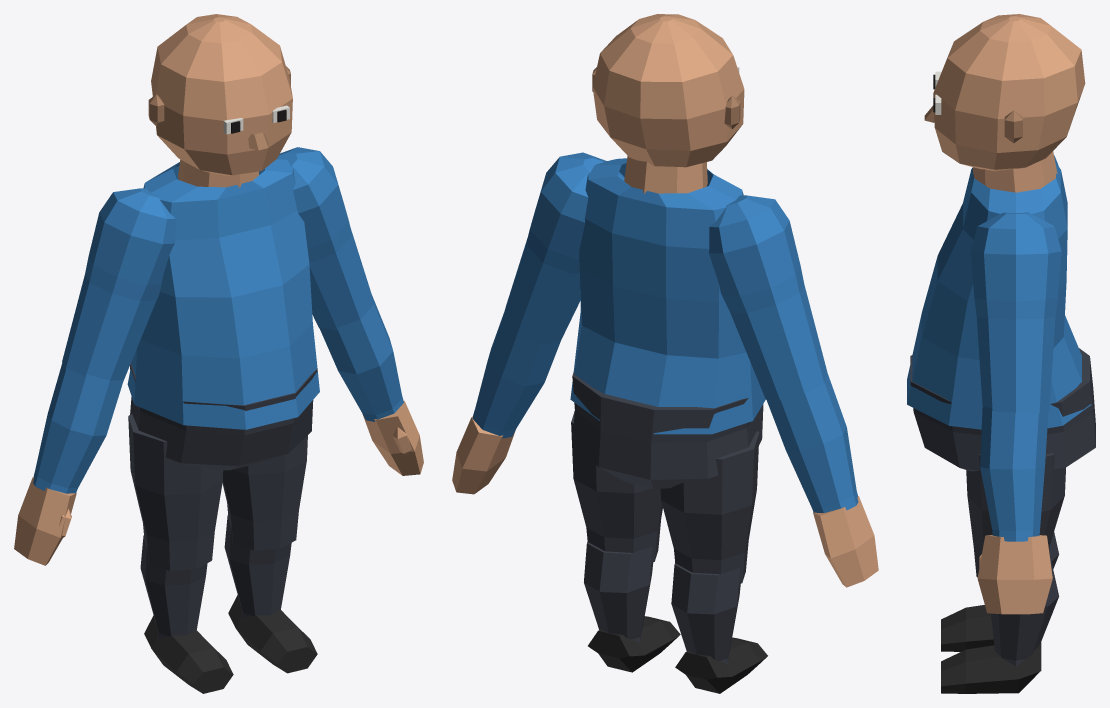
The model's file is bebe_x_rond.glb.
3 views of the same model, side by side, from view 1: azimuth 30°, elevation 25°; view 2: azimuth 150°, elevation 25°; view 3: azimuth 270°, elevation 25° (orthographic). The views are drawn at different scales.
Parts seen in each view (by area): view 1: torse, tete, bras_d, avant_bras_d, jambe_d, bras_g, avant_bras_g, tibia_g, tibia_d, bassin, jambe_g; view 2: torse, tete, bras_d, bassin, avant_bras_d, bras_g, jambe_d, avant_bras_g, tibia_g, tibia_d, jambe_g; view 3: tete, torse, bras_g, avant_bras_g, tibia_g, bassin, jambe_g, tibia_d.
Part boxes in pixels (left/top/right/bottom): torse: left=127, top=157, right=319, bottom=429; tete: left=148, top=14, right=292, bottom=187; bras_d: left=62, top=188, right=175, bottom=380; avant_bras_d: left=14, top=363, right=123, bottom=565; jambe_d: left=128, top=414, right=223, bottom=570; bras_g: left=259, top=147, right=374, bottom=330; avant_bras_g: left=319, top=294, right=423, bottom=475; tibia_g: left=224, top=515, right=317, bottom=673; tibia_d: left=140, top=535, right=233, bottom=693; bassin: left=130, top=361, right=317, bottom=470; jambe_g: left=222, top=435, right=307, bottom=550; torse: left=570, top=158, right=765, bottom=434; tete: left=592, top=14, right=744, bottom=193; bras_d: left=709, top=195, right=827, bottom=400; bassin: left=572, top=371, right=763, bottom=488; avant_bras_d: left=766, top=375, right=878, bottom=587; bras_g: left=502, top=152, right=624, bottom=344; jambe_d: left=660, top=431, right=759, bottom=583; avant_bras_g: left=452, top=313, right=560, bottom=494; tibia_g: left=584, top=541, right=680, bottom=672; tibia_d: left=671, top=563, right=767, bottom=693; jambe_g: left=571, top=411, right=662, bottom=562; tete: left=924, top=14, right=1085, bottom=192; torse: left=907, top=164, right=1091, bottom=429; bras_g: left=970, top=212, right=1061, bottom=414; avant_bras_g: left=977, top=407, right=1052, bottom=614; tibia_g: left=941, top=560, right=1059, bottom=693; bassin: left=910, top=348, right=1095, bottom=471; jambe_g: left=966, top=453, right=1065, bottom=577; tibia_d: left=941, top=532, right=1059, bottom=651.
Bounding box in the file's own units: 0.5212 × 0.7985 × 0.2105.
1 material, 1 textured.
